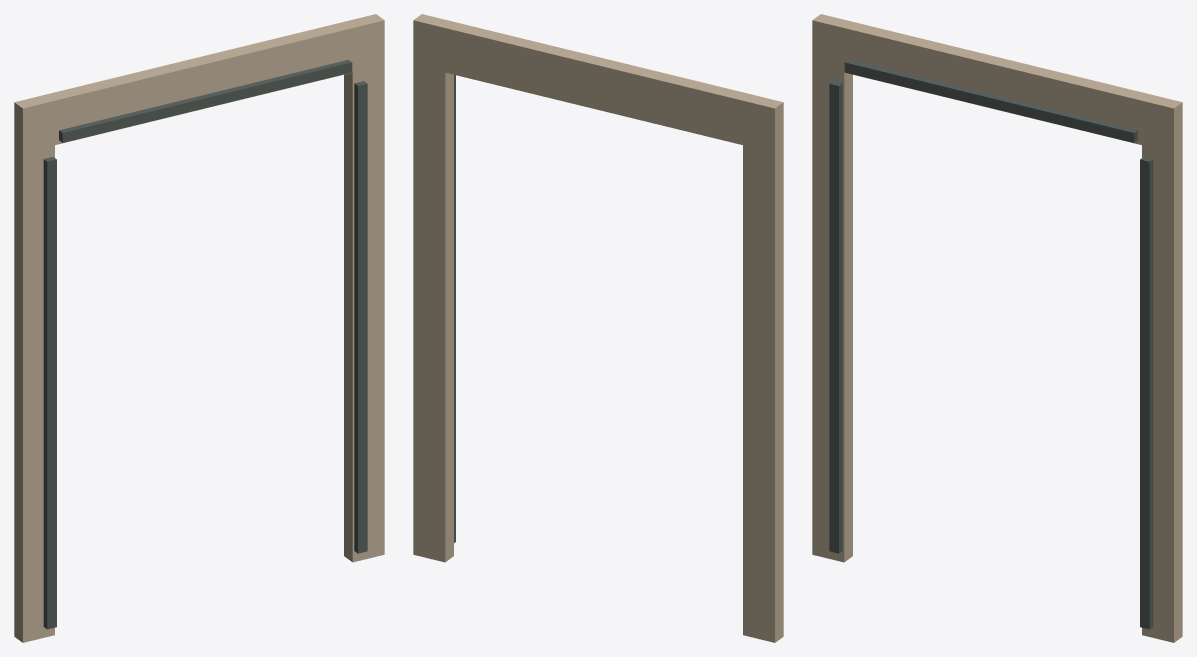
The picture shows the model from 3 angles, left to right: view 1: azimuth 30°, elevation 25°; view 2: azimuth 150°, elevation 25°; view 3: azimuth 330°, elevation 25°; orthographic projection.
Visible parts, largest first — view 1: header, left-jamb, right-jamb, left-trim, right-trim, top-trim; view 2: left-jamb, right-jamb, header, right-trim; view 3: header, right-jamb, left-jamb, right-trim, left-trim, top-trim.
Boxes of the visible parts, <box> form: header: <box>14,14,384,152</box>; left-jamb: <box>14,145,54,642</box>; right-jamb: <box>344,65,384,562</box>; left-trim: <box>43,157,56,629</box>; right-trim: <box>354,81,367,553</box>; top-trim: <box>59,59,352,142</box>; left-jamb: <box>743,145,783,642</box>; right-jamb: <box>413,65,453,562</box>; header: <box>413,14,783,152</box>; right-trim: <box>454,75,455,542</box>; header: <box>812,14,1182,152</box>; right-jamb: <box>1142,145,1182,642</box>; left-jamb: <box>812,65,852,562</box>; right-trim: <box>1140,157,1153,629</box>; left-trim: <box>829,81,842,553</box>; top-trim: <box>844,59,1137,142</box>.
Bounding box in the file's own units: 1.7 × 2.4 × 0.1.
